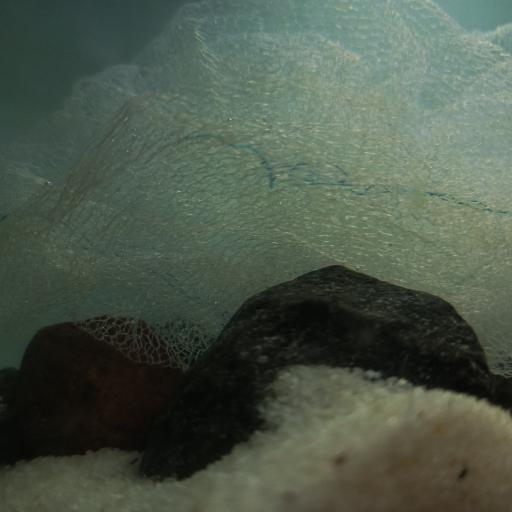net: (0, 2, 512, 377)
